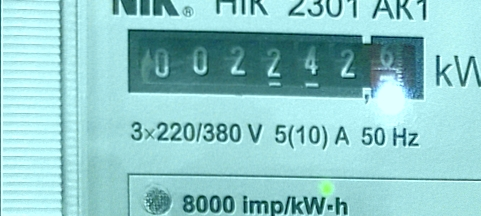0: (152, 46, 172, 80), (190, 44, 209, 77)
2: (228, 45, 247, 77), (265, 46, 282, 79), (339, 48, 356, 79)
4: (303, 44, 319, 76)
6: (379, 42, 394, 69)
screen: (117, 19, 435, 109)
